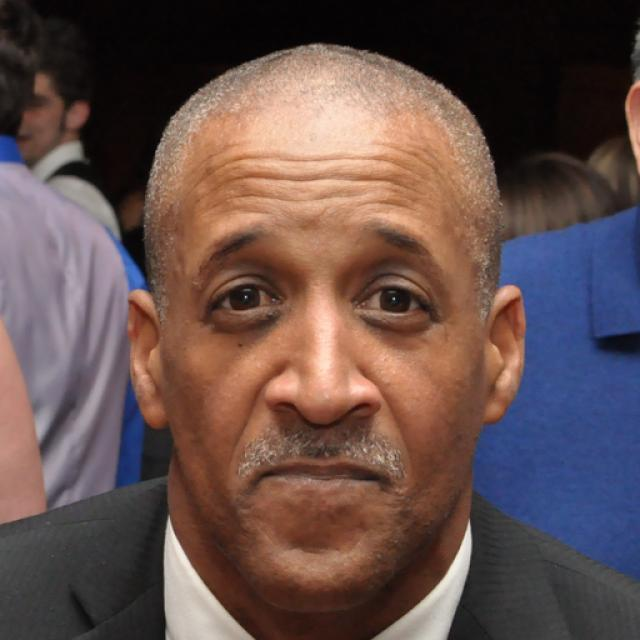sad: (164, 120, 494, 606)
